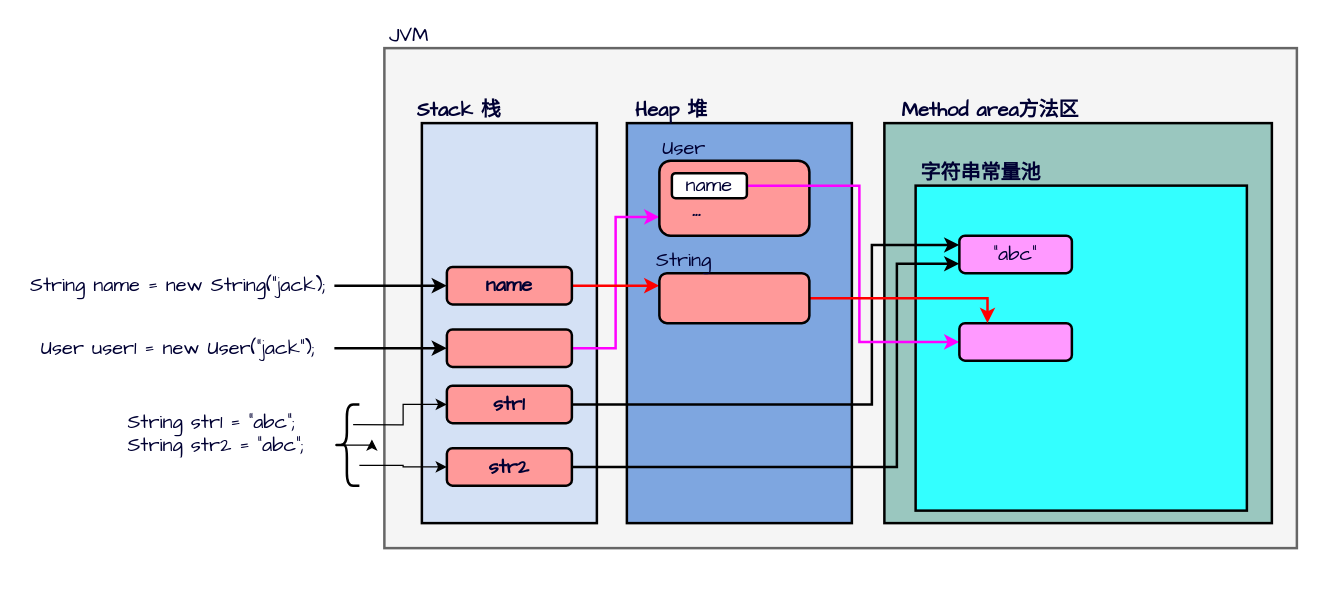
The diagram is 1319 pixels wide and 594 high, and some of its shapes have lost their labels. Each missing label, with the centre of its shape:
"user1" belongs at point 508,348.
"“jack”" belongs at point 1015,341.
